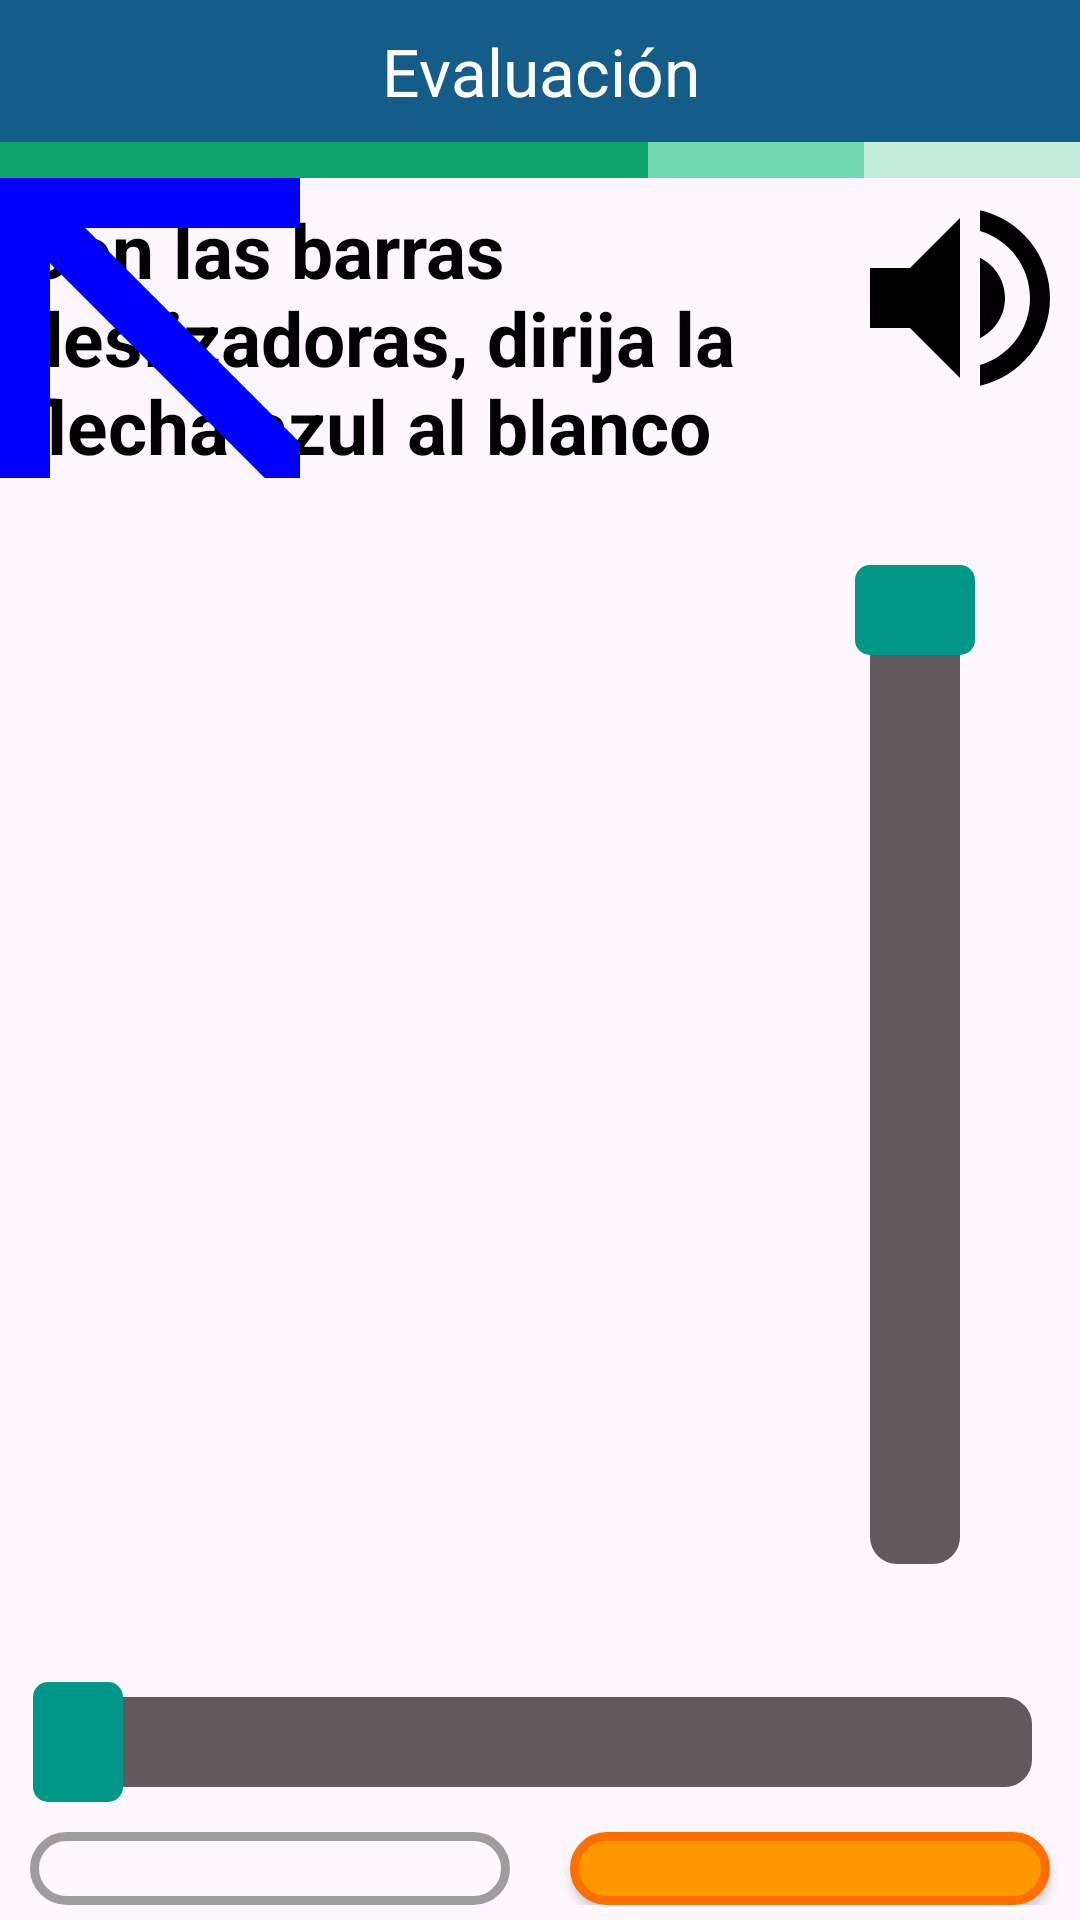

Named icons in this screenshot (1080w x 1920h) and their centers, [x,y]:
speaker: [960,298]
